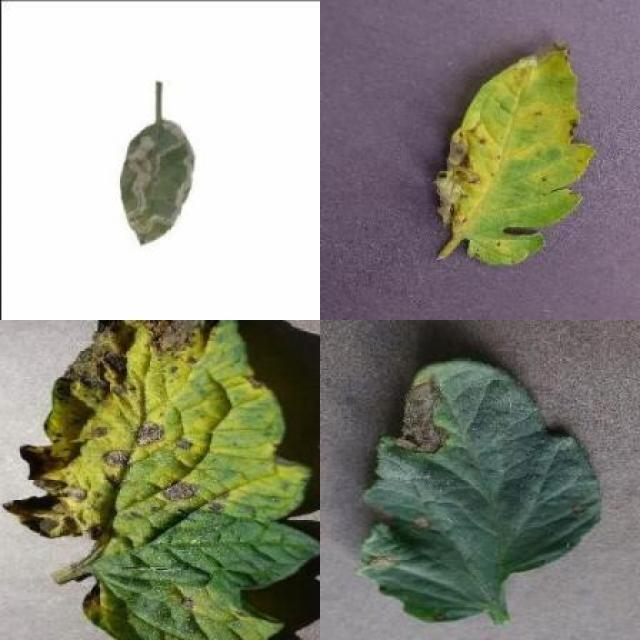Early Blight: (3, 323, 320, 640), (364, 359, 605, 624)
Leaf Miner: (118, 119, 192, 245)
Septoria: (434, 43, 600, 266)
